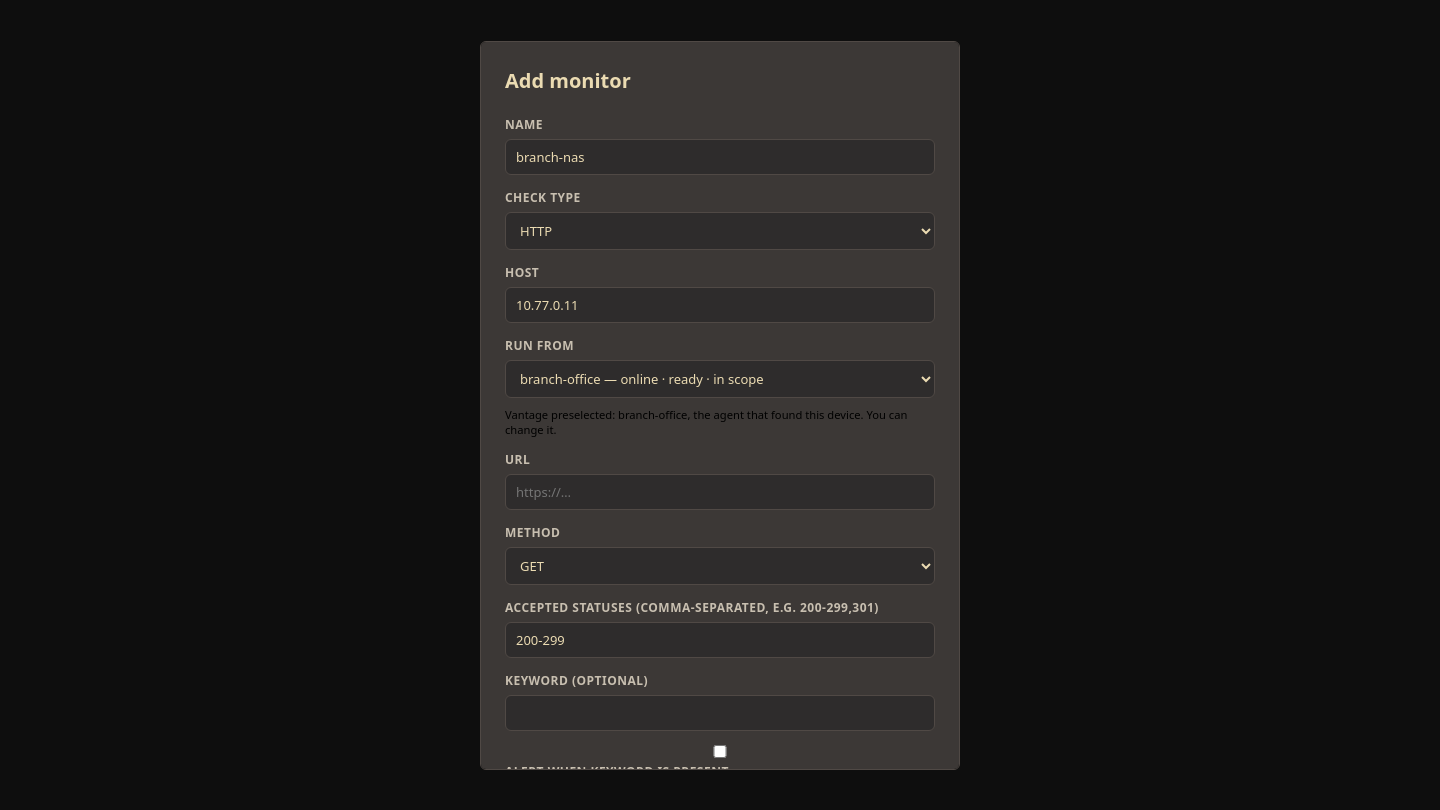
a vantage that was chosen for the operator › leaves the selection genuinely changeable
Select "Circuit Breaker server" in the dropdown labelled "Run from": (720, 378) [505,360,935,398]
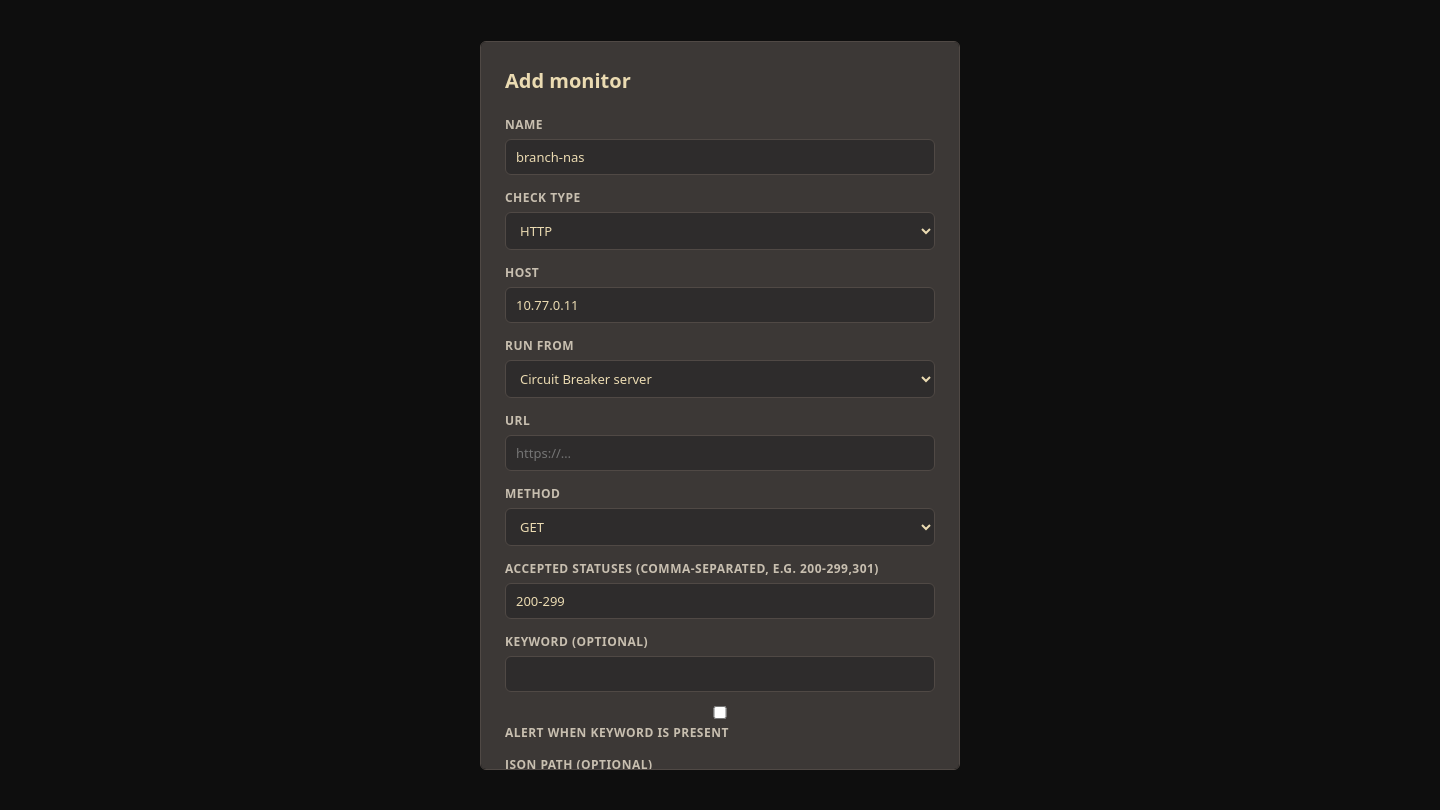
Check: the text "Vantage preselected" is gone
